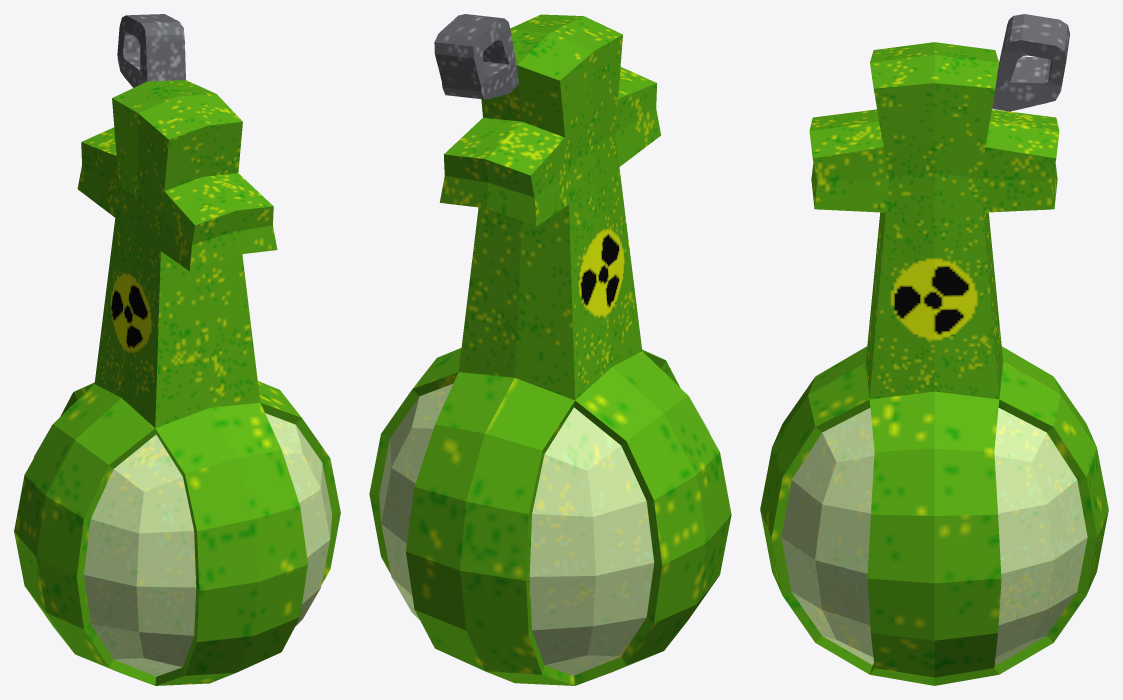
File: holy_rad_granade.glb
The picture shows the model from 3 angles, left to right: view 1: azimuth 30°, elevation 25°; view 2: azimuth 150°, elevation 25°; view 3: azimuth 270°, elevation 25°; orthographic projection. The views are drawn at different scales.
Parts seen in each view (by area): view 1: Cube; view 2: Cube; view 3: Cube.
Boxes of the visible parts, x1,y1,x2,y2 form: Cube: (14,14,340,685); Cube: (369,14,731,685); Cube: (760,14,1108,685).
Size of the model in its own units: 0.267 by 0.5548 by 0.267.
1 material, 1 textured.
